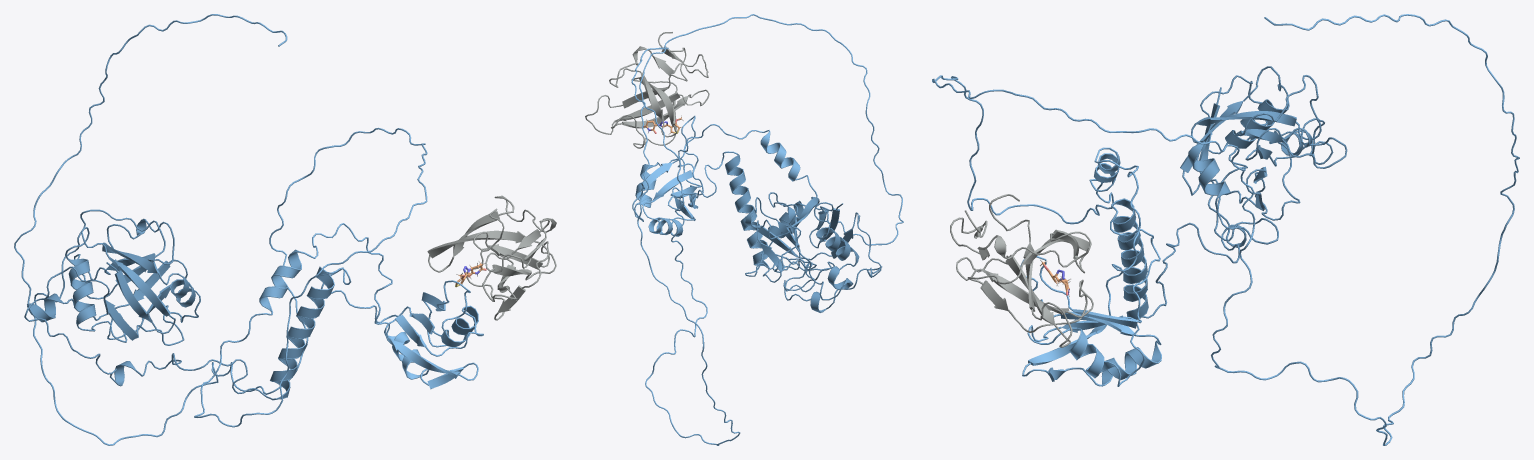
The model's file is FPFT_2216_positive_control.glb.
3 renders of one model, left to right at view 1: azimuth 30°, elevation 25°; view 2: azimuth 150°, elevation 25°; view 3: azimuth 270°, elevation 25°, orthographic. The views are drawn at different scales.
Parts seen in each view (by area): view 1: node-geom57, node-geom58; view 2: node-geom57, node-geom58; view 3: node-geom57, node-geom58.
Part boxes in pixels (x1,y1,x2,y2): node-geom57: (24, 195, 556, 400); node-geom58: (14, 14, 483, 445); node-geom57: (585, 32, 882, 312); node-geom58: (631, 14, 903, 445); node-geom57: (950, 66, 1347, 347); node-geom58: (932, 14, 1519, 445).
Size of the model in its own units: 120 by 107 by 122.
